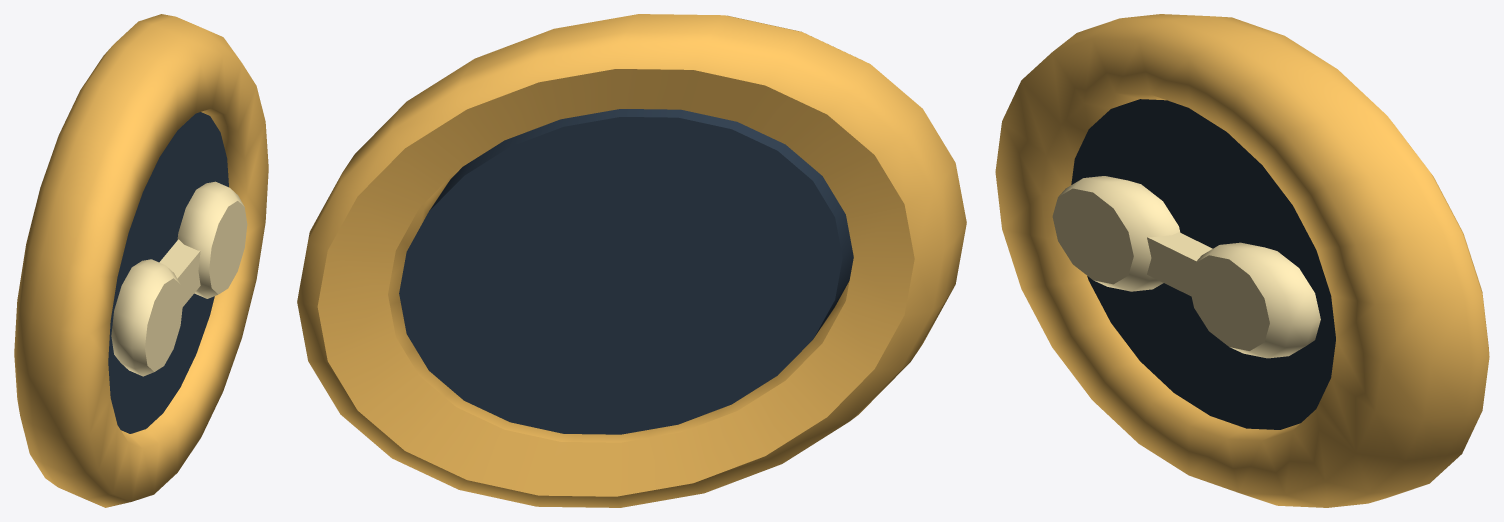
The model's file is Coin.fbx.
3 views of the same model, side by side, from view 1: azimuth 30°, elevation 25°; view 2: azimuth 150°, elevation 25°; view 3: azimuth 270°, elevation 25° (orthographic). The views are drawn at different scales.
Parts seen in each view (by area): view 1: CoinMesh; view 2: CoinMesh; view 3: CoinMesh.
Part boxes in pixels (left/top/right/bottom): CoinMesh: left=14, top=14, right=268, bottom=507; CoinMesh: left=297, top=14, right=966, bottom=507; CoinMesh: left=995, top=14, right=1489, bottom=507.
Size of the model in its own units: 1 by 1 by 1.
